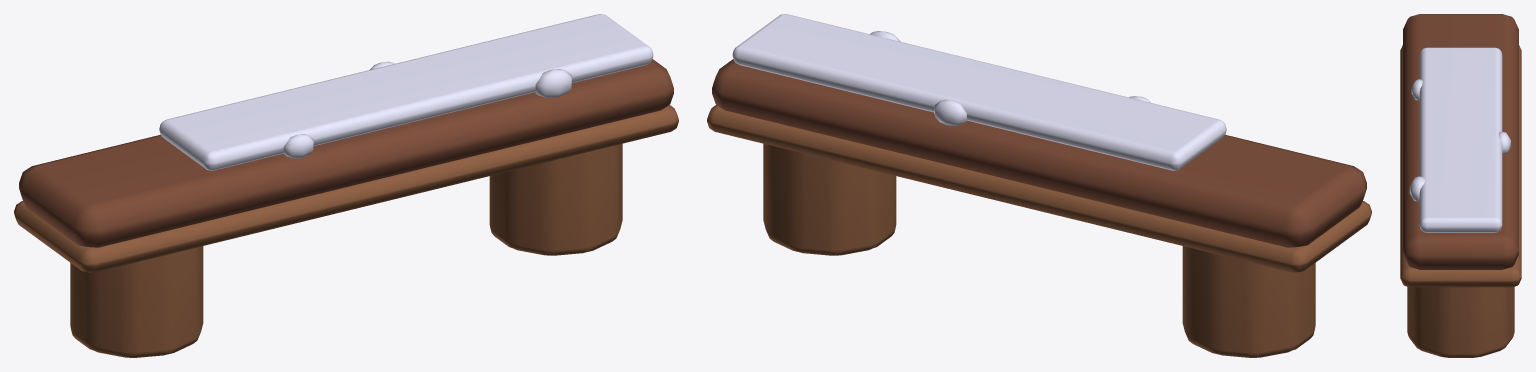
The model's file is frost_bench.glb.
The picture shows the model from 3 angles, left to right: view 1: azimuth 30°, elevation 25°; view 2: azimuth 150°, elevation 25°; view 3: azimuth 270°, elevation 25°; orthographic projection. The views are drawn at different scales.
Visible parts, largest first — view 1: Bench; view 2: Bench; view 3: Bench.
Part boxes in pixels (x1,y1,x2,y2): Bench: [14, 14, 678, 357]; Bench: [707, 14, 1371, 357]; Bench: [1400, 14, 1521, 357].
Bounding box in the file's own units: 2 × 0.5971 × 0.44.
